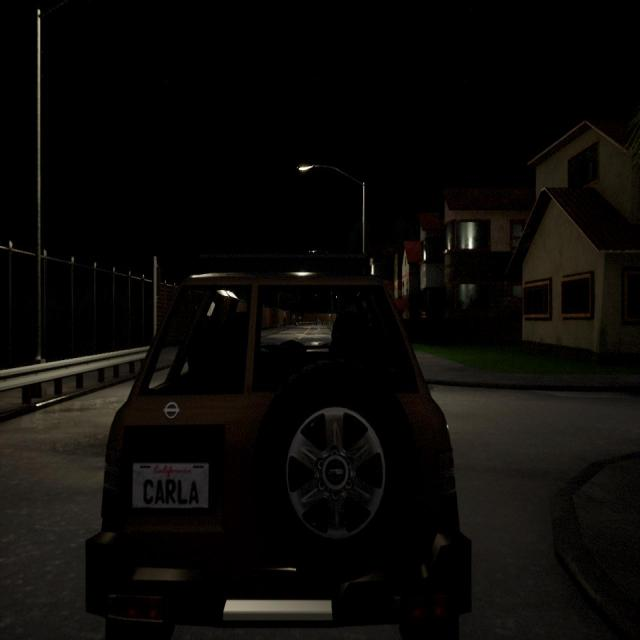Pedestrian: (282, 316, 287, 329)
Vehicle: (86, 270, 470, 638)
traffic_light: (328, 311, 331, 317)
